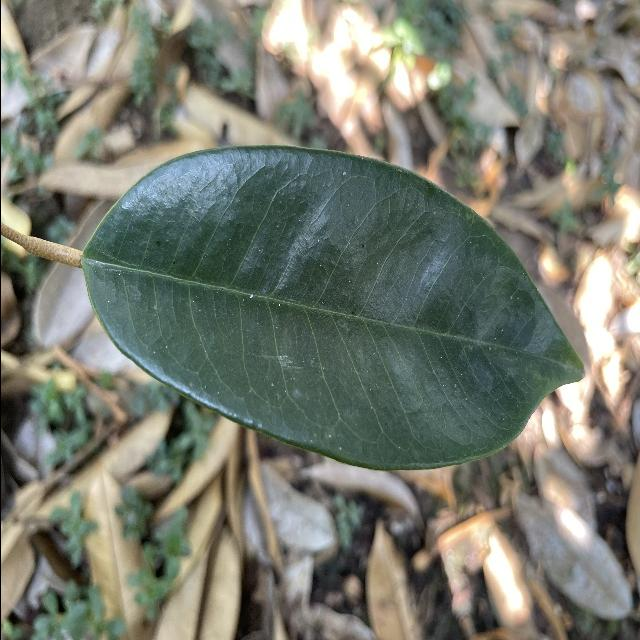No Disease: (73, 131, 592, 478)
